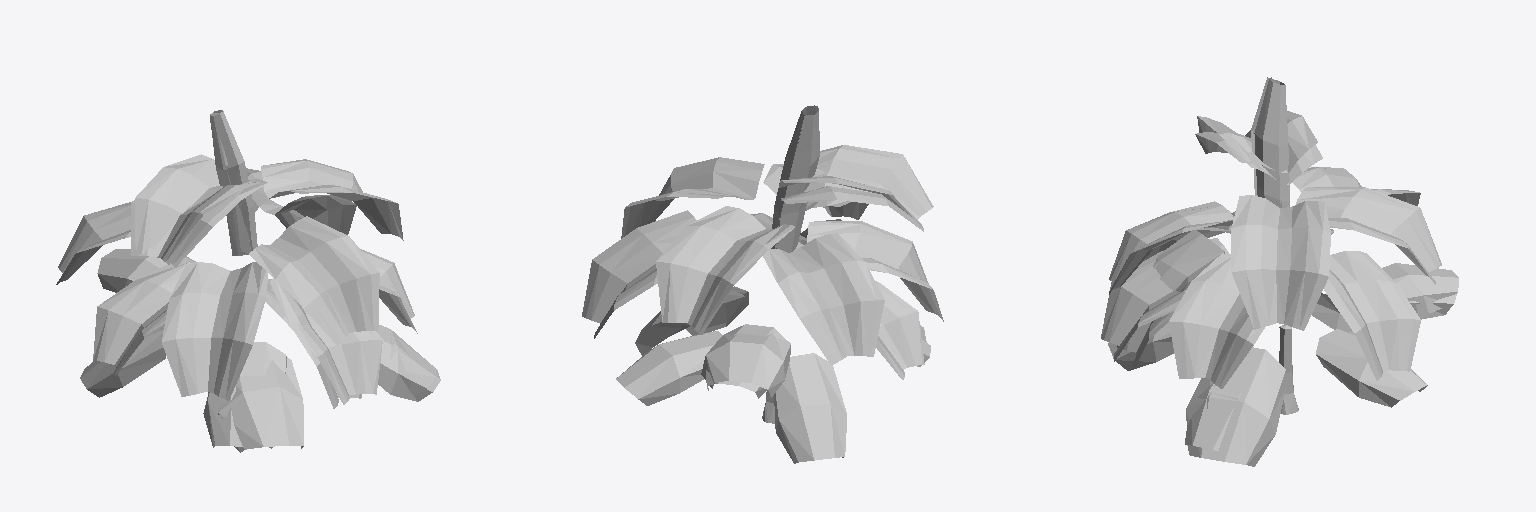
Rendered from Alocasia macrorrhiza 01_LOD3.obj.
3 renders of one model, left to right at view 1: azimuth 30°, elevation 25°; view 2: azimuth 150°, elevation 25°; view 3: azimuth 270°, elevation 25°, orthographic.
Parts seen in each view (by area): view 1: tree; view 2: tree; view 3: tree.
Part boxes in pixels (x1,y1,x2,y2): tree: (56, 110, 440, 452); tree: (582, 105, 943, 463); tree: (1101, 77, 1458, 466).
Bounding box in the file's own units: 233 × 229 × 236.